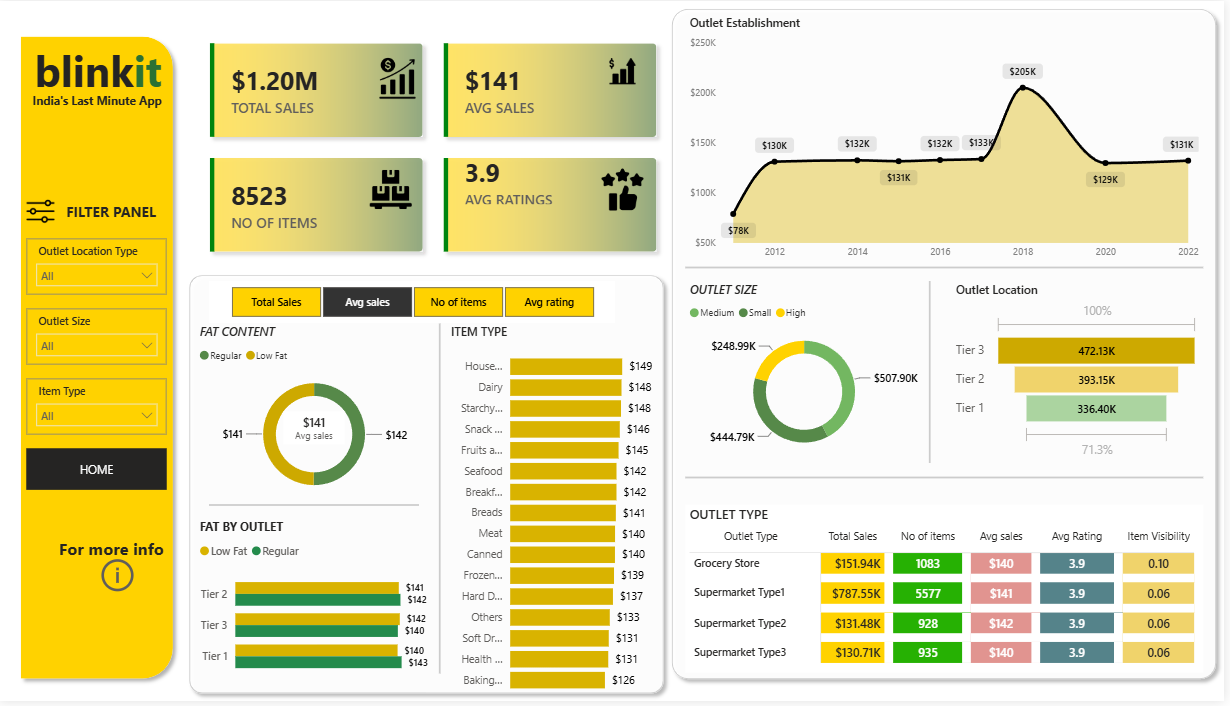

What the dashboard file says about the page in this screenshot:
{"tool":"powerbi","page":{"name":"HOME","canvas":[1400,800],"ordinal":0},"visuals":[{"type":"shape","box":[16,32,192,752],"z":0},{"type":"textbox","box":[28.6,41.4,170,75.7],"z":1000},{"type":"textbox","box":[28.6,100,167.1,32.9],"z":2000},{"type":"cardVisual","fields":{"Data":["BlinkIT Grocery Data.Total Sales","BlinkIT Grocery Data.Avg sales","BlinkIT Grocery Data.No of items","BlinkIT Grocery Data.Avg rating"]},"box":[224,32,544,272],"z":3000},{"type":"image","box":[432,64,48,48],"z":4000},{"type":"image","box":[688,64,48,32],"z":5000},{"type":"image","box":[416,192,64,48],"z":6000},{"type":"image","box":[688,192,48,48],"z":7000},{"type":"shape","box":[208,304,560,496],"z":8000},{"type":"donutChart","title":"FAT CONTENT","fields":{"Y":["BlinkIT Grocery Data.Avg sales"],"Category":["BlinkIT Grocery Data.Item Fat Content"]},"box":[224,368,272,208],"z":9000},{"type":"slicer","fields":{"Values":["Metrics.Metrics"]},"box":[240,320,464,48],"z":10000},{"type":"cardVisual","fields":{"Data":["BlinkIT Grocery Data.Avg sales"]},"box":[320,464,80,48],"z":11000},{"type":"clusteredBarChart","title":"FAT BY OUTLET","fields":{"Y":["BlinkIT Grocery Data.Avg sales"],"Category":["BlinkIT Grocery Data.Outlet Location Type"],"Series":["BlinkIT Grocery Data.Item Fat Content"]},"box":[224,592,272,192],"z":12000},{"type":"shape","box":[240,560,240,32],"z":13000},{"type":"shape","box":[496,368,16,400],"z":14000},{"type":"barChart","title":"ITEM TYPE","fields":{"Y":["BlinkIT Grocery Data.Avg sales"],"Category":["BlinkIT Grocery Data.Item Type"]},"box":[512,368,240,432],"z":15000},{"type":"shape","box":[760,0,640,784],"z":16000},{"type":"lineChart","title":" Outlet Establishment","fields":{"Category":["BlinkIT Grocery Data.Outlet Establishment Year"],"Y":["BlinkIT Grocery Data.Total Sales"]},"box":[784,16,592,288],"z":17000},{"type":"shape","box":[784,288,592,32],"z":18000},{"type":"donutChart","title":"OUTLET SIZE","fields":{"Y":["BlinkIT Grocery Data.Total Sales"],"Category":["BlinkIT Grocery Data.Outlet Size"]},"box":[784,320,272,208],"z":19000},{"type":"shape","box":[1056,320,16,208],"z":20000},{"type":"funnel","title":" Outlet Location ","fields":{"Category":["BlinkIT Grocery Data.Outlet Location Type"],"Y":["Sum(BlinkIT Grocery Data.Sales)"]},"box":[1088,320,288,208],"z":21000},{"type":"shape","box":[784,528,592,32],"z":22000},{"type":"pivotTable","title":"OUTLET TYPE","fields":{"Rows":["BlinkIT Grocery Data.Outlet Type"],"Values":["BlinkIT Grocery Data.Total Sales","BlinkIT Grocery Data.No of items","BlinkIT Grocery Data.Avg sales","BlinkIT Grocery Data.Avg rating","Avg(BlinkIT Grocery Data.Item Visibility)"]},"box":[784,576,592,192],"z":23000},{"type":"slicer","fields":{"Values":["BlinkIT Grocery Data.Outlet Location Type"]},"box":[32,272,160,64],"z":24000},{"type":"slicer","fields":{"Values":["BlinkIT Grocery Data.Outlet Size"]},"box":[32,352,160,64],"z":25000},{"type":"slicer","fields":{"Values":["BlinkIT Grocery Data.Item Type"]},"box":[32,432,160,64],"z":26000},{"type":"textbox","box":[64,224,128,32],"z":27000},{"type":"image","box":[32,224,32,32],"z":28000},{"type":"actionButton","box":[144,512,32,48],"z":29000},{"type":"pageNavigator","box":[32,512,160,48],"z":30000},{"type":"actionButton","box":[112,624,48,64],"z":31000},{"type":"textbox","box":[48,608,160,48],"z":31001}]}

Visuals, with their boxes in screenshot pixels (x1, y1, x2, y2), scaled from the page's 1400x800 canvas onto the 1230x706 screenshot:
shape: detection(14, 28, 183, 692)
textbox: detection(25, 37, 174, 103)
textbox: detection(25, 88, 172, 117)
cardVisual - BlinkIT Grocery Data.Total Sales x BlinkIT Grocery Data.Avg sales: detection(197, 28, 675, 268)
image: detection(380, 56, 422, 99)
image: detection(604, 56, 647, 85)
image: detection(365, 169, 422, 212)
image: detection(604, 169, 647, 212)
shape: detection(183, 268, 675, 705)
"FAT CONTENT" donutChart: detection(197, 325, 436, 508)
slicer - Metrics.Metrics: detection(211, 282, 619, 325)
cardVisual - BlinkIT Grocery Data.Avg sales: detection(281, 409, 351, 452)
"FAT BY OUTLET" clusteredBarChart: detection(197, 522, 436, 692)
shape: detection(211, 494, 422, 522)
shape: detection(436, 325, 450, 678)
"ITEM TYPE" barChart: detection(450, 325, 661, 705)
shape: detection(668, 0, 1229, 692)
" Outlet Establishment" lineChart: detection(689, 14, 1209, 268)
shape: detection(689, 254, 1209, 282)
"OUTLET SIZE" donutChart: detection(689, 282, 928, 466)
shape: detection(928, 282, 942, 466)
" Outlet Location " funnel: detection(956, 282, 1209, 466)
shape: detection(689, 466, 1209, 494)
"OUTLET TYPE" pivotTable: detection(689, 508, 1209, 678)
slicer - BlinkIT Grocery Data.Outlet Location Type: detection(28, 240, 169, 297)
slicer - BlinkIT Grocery Data.Outlet Size: detection(28, 311, 169, 367)
slicer - BlinkIT Grocery Data.Item Type: detection(28, 381, 169, 438)
textbox: detection(56, 198, 169, 226)
image: detection(28, 198, 56, 226)
actionButton: detection(127, 452, 155, 494)
pageNavigator: detection(28, 452, 169, 494)
actionButton: detection(98, 551, 141, 607)
textbox: detection(42, 537, 183, 579)
